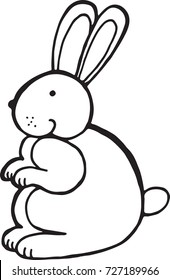animal: (8, 3, 163, 255)
